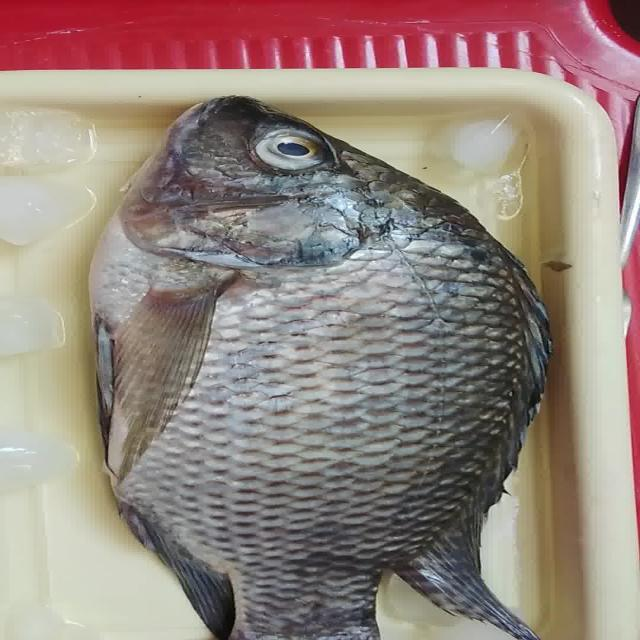Fresh: (83, 205, 565, 640), (247, 126, 357, 178)
